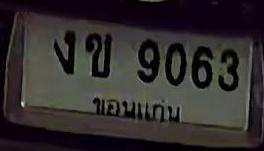number: (49, 18, 242, 95)
province: (89, 90, 183, 128)
